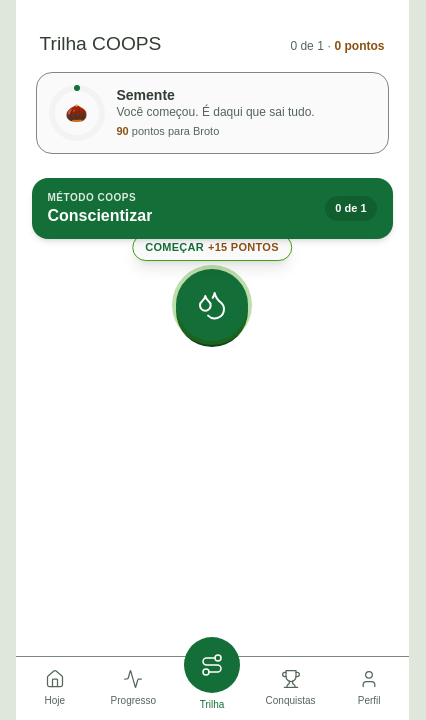
Test: Trilha — clicar na colheita atual › responde a colheita direto, sem o frontend registrar humor (backend abre o dia, #64)
Click the button named "Para onde o dinheiro foi".
click(212, 305)  # box [176, 269, 248, 341]
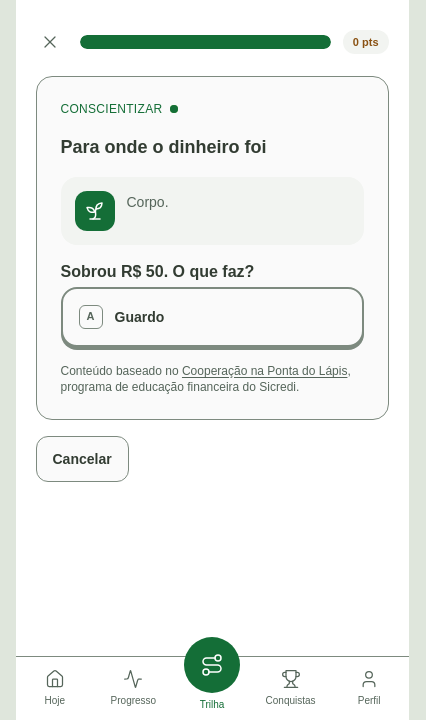
Click the button "A Guardo".
click(139, 317)  # box [60, 287, 364, 347]
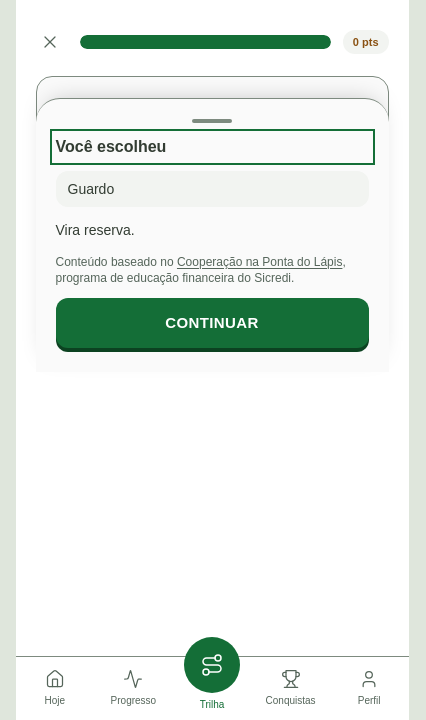
Expected: the text "Vira reserva." is shown, [56, 222, 135, 238]
